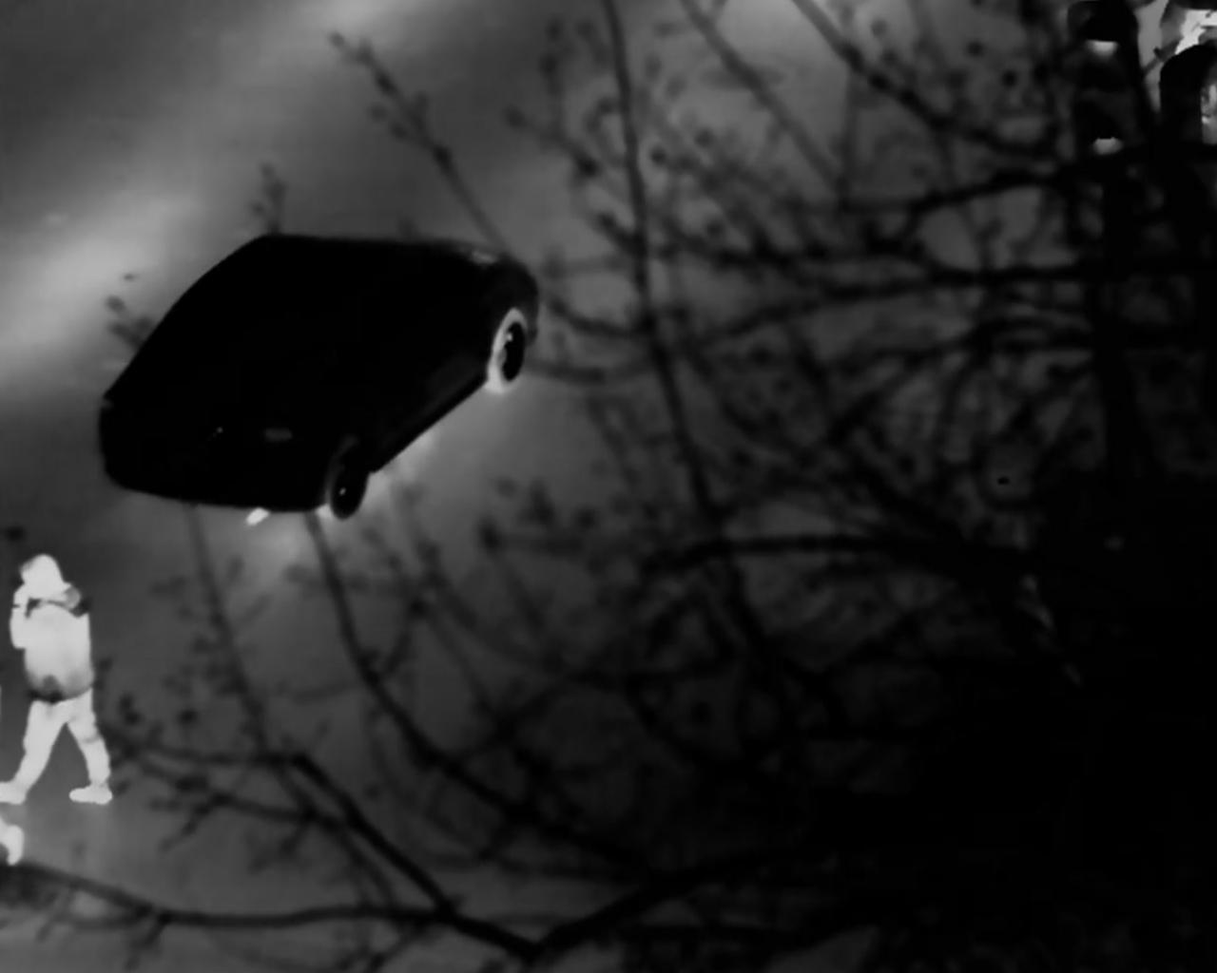person: (8, 553, 108, 802)
